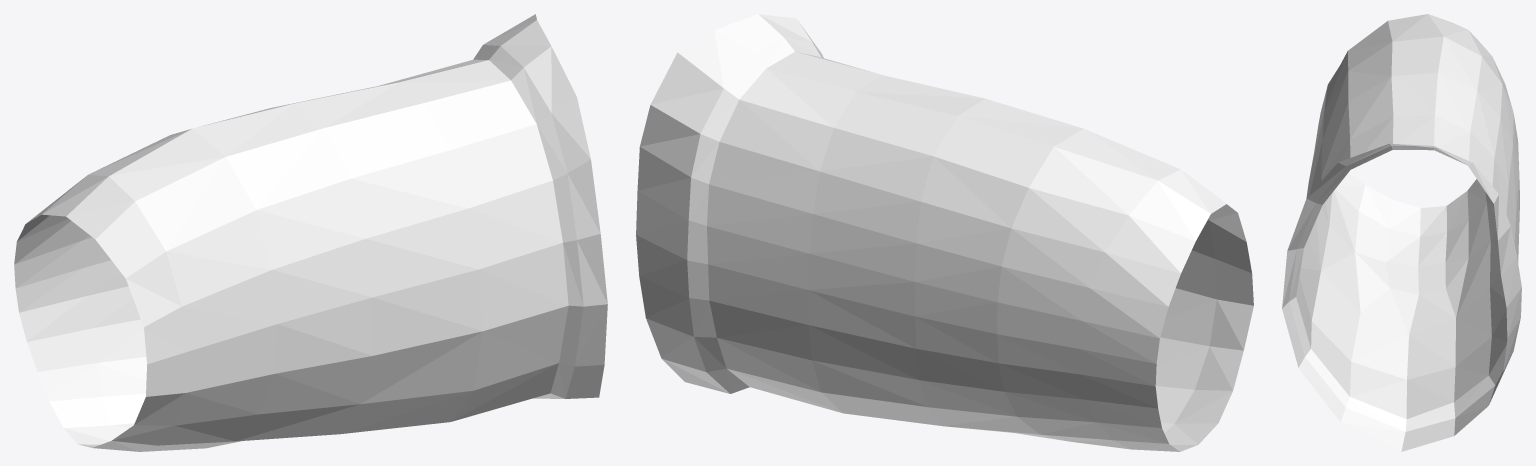
The model's file is l_upperarm.dae.
3 views of the same model, side by side, from view 1: azimuth 30°, elevation 25°; view 2: azimuth 150°, elevation 25°; view 3: azimuth 270°, elevation 25° (orthographic). The views are drawn at different scales.
Parts seen in each view (by area): view 1: node; view 2: node; view 3: node.
Boxes of the visible parts, left/top/right/bottom form: node: left=14, top=14, right=607, bottom=451; node: left=636, top=14, right=1253, bottom=451; node: left=1282, top=14, right=1521, bottom=451.
Size of the model in its own units: 0.2091 by 0.139 by 0.102.
1 material, 1 textured.
